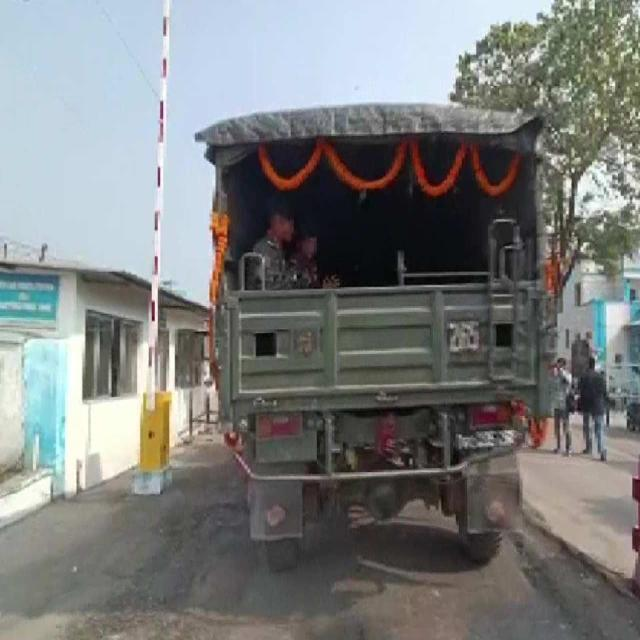truck: (197, 103, 541, 575)
